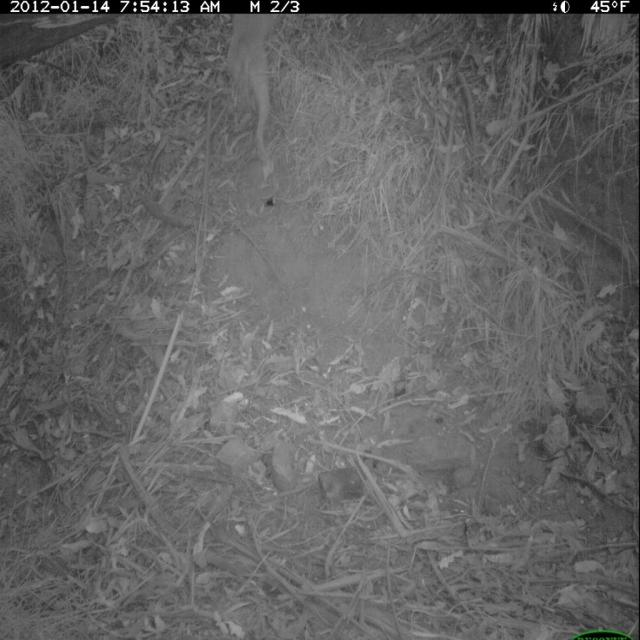dog: (213, 11, 295, 164)
